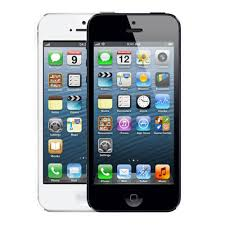iphone5: (34, 8, 184, 215), (85, 6, 182, 213)
